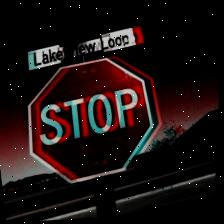Stop: (21, 51, 167, 195)
